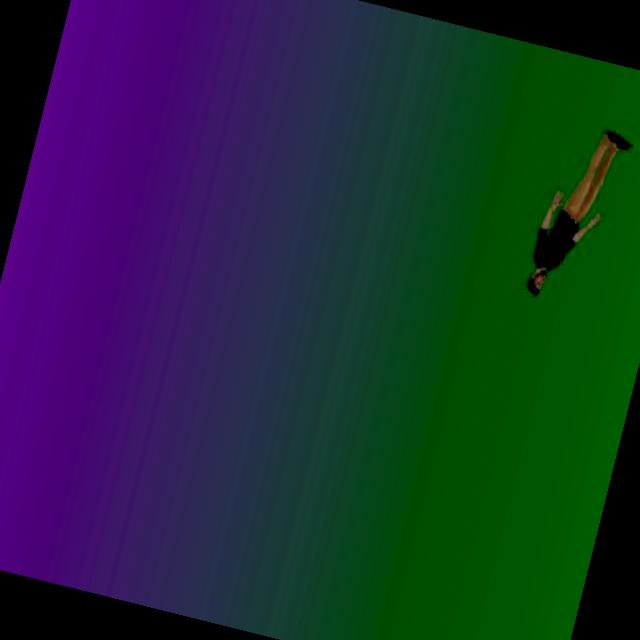Person: (518, 112, 640, 318)
